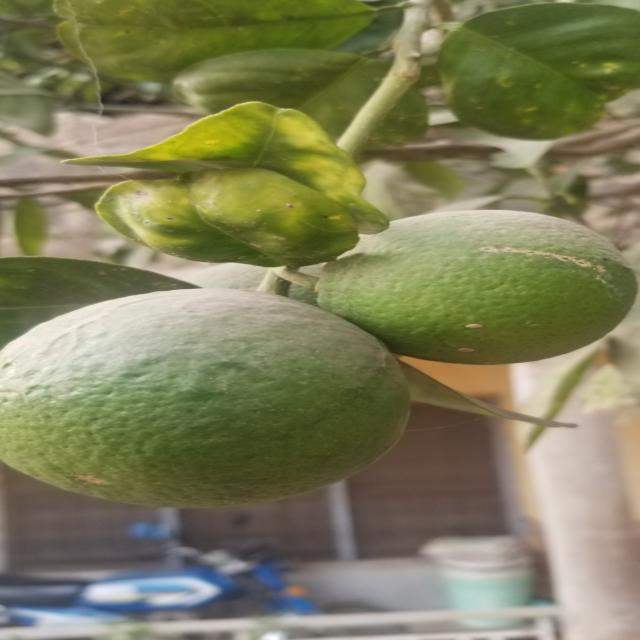Unripe: (3, 281, 428, 516), (343, 198, 633, 373)
